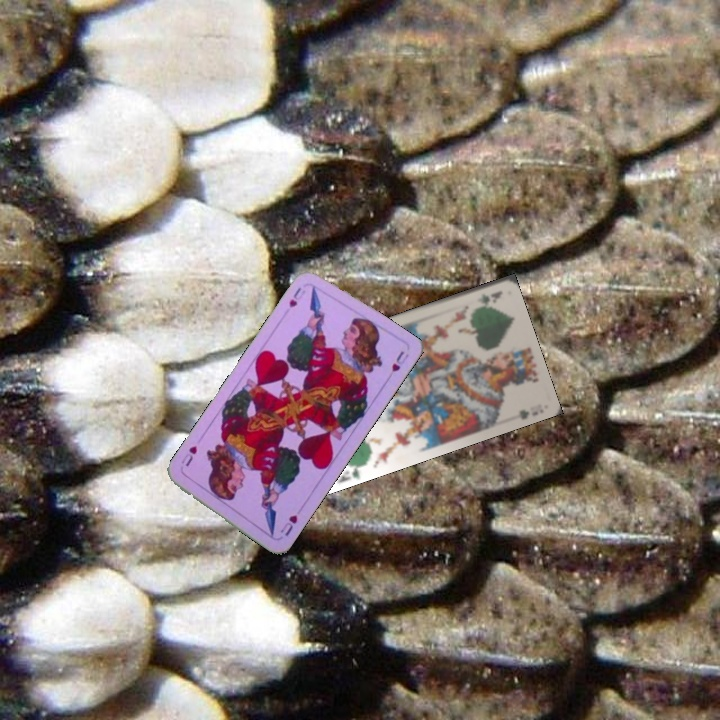GK: (333, 461, 365, 486), (476, 286, 504, 307)
HU: (276, 511, 300, 539), (285, 283, 308, 310)
